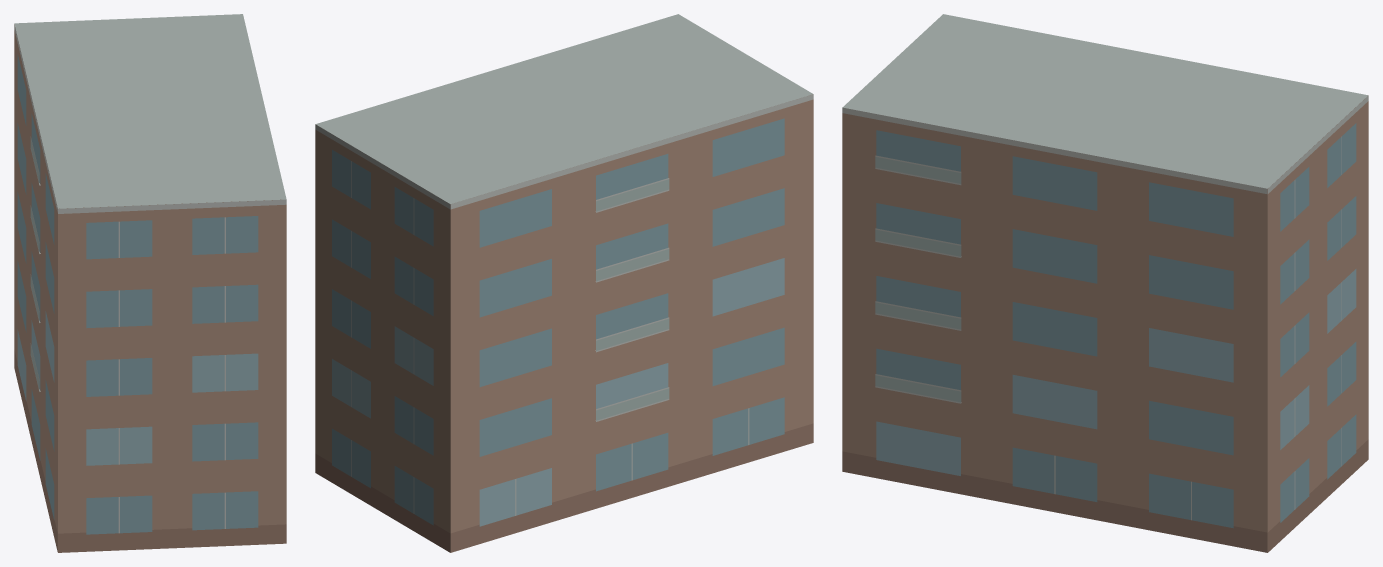
Rendered from survey-upis-32525373.glb.
3 renders of one model, left to right at view 1: azimuth 30°, elevation 25°; view 2: azimuth 150°, elevation 25°; view 3: azimuth 270°, elevation 25°, orthographic. The views are drawn at different scales.
Visible parts, largest first — view 1: survey-upis-32525373.tmp; view 2: survey-upis-32525373.tmp; view 3: survey-upis-32525373.tmp.
Part boxes in pixels (x1,y1,x2,y2): survey-upis-32525373.tmp: [14, 14, 286, 552]; survey-upis-32525373.tmp: [315, 14, 813, 552]; survey-upis-32525373.tmp: [842, 14, 1368, 552].
Bounding box in the file's own units: 16.48 × 16 × 20.97.
